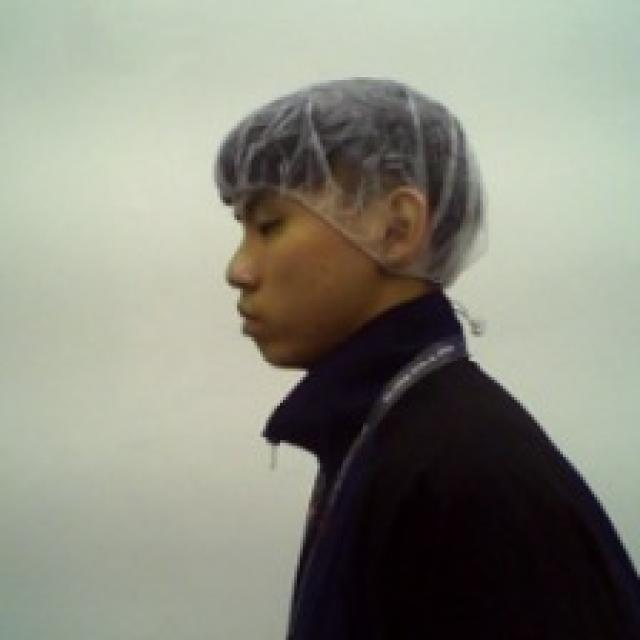gloves: (218, 70, 494, 290)
no_hairnet: (218, 184, 446, 373)
